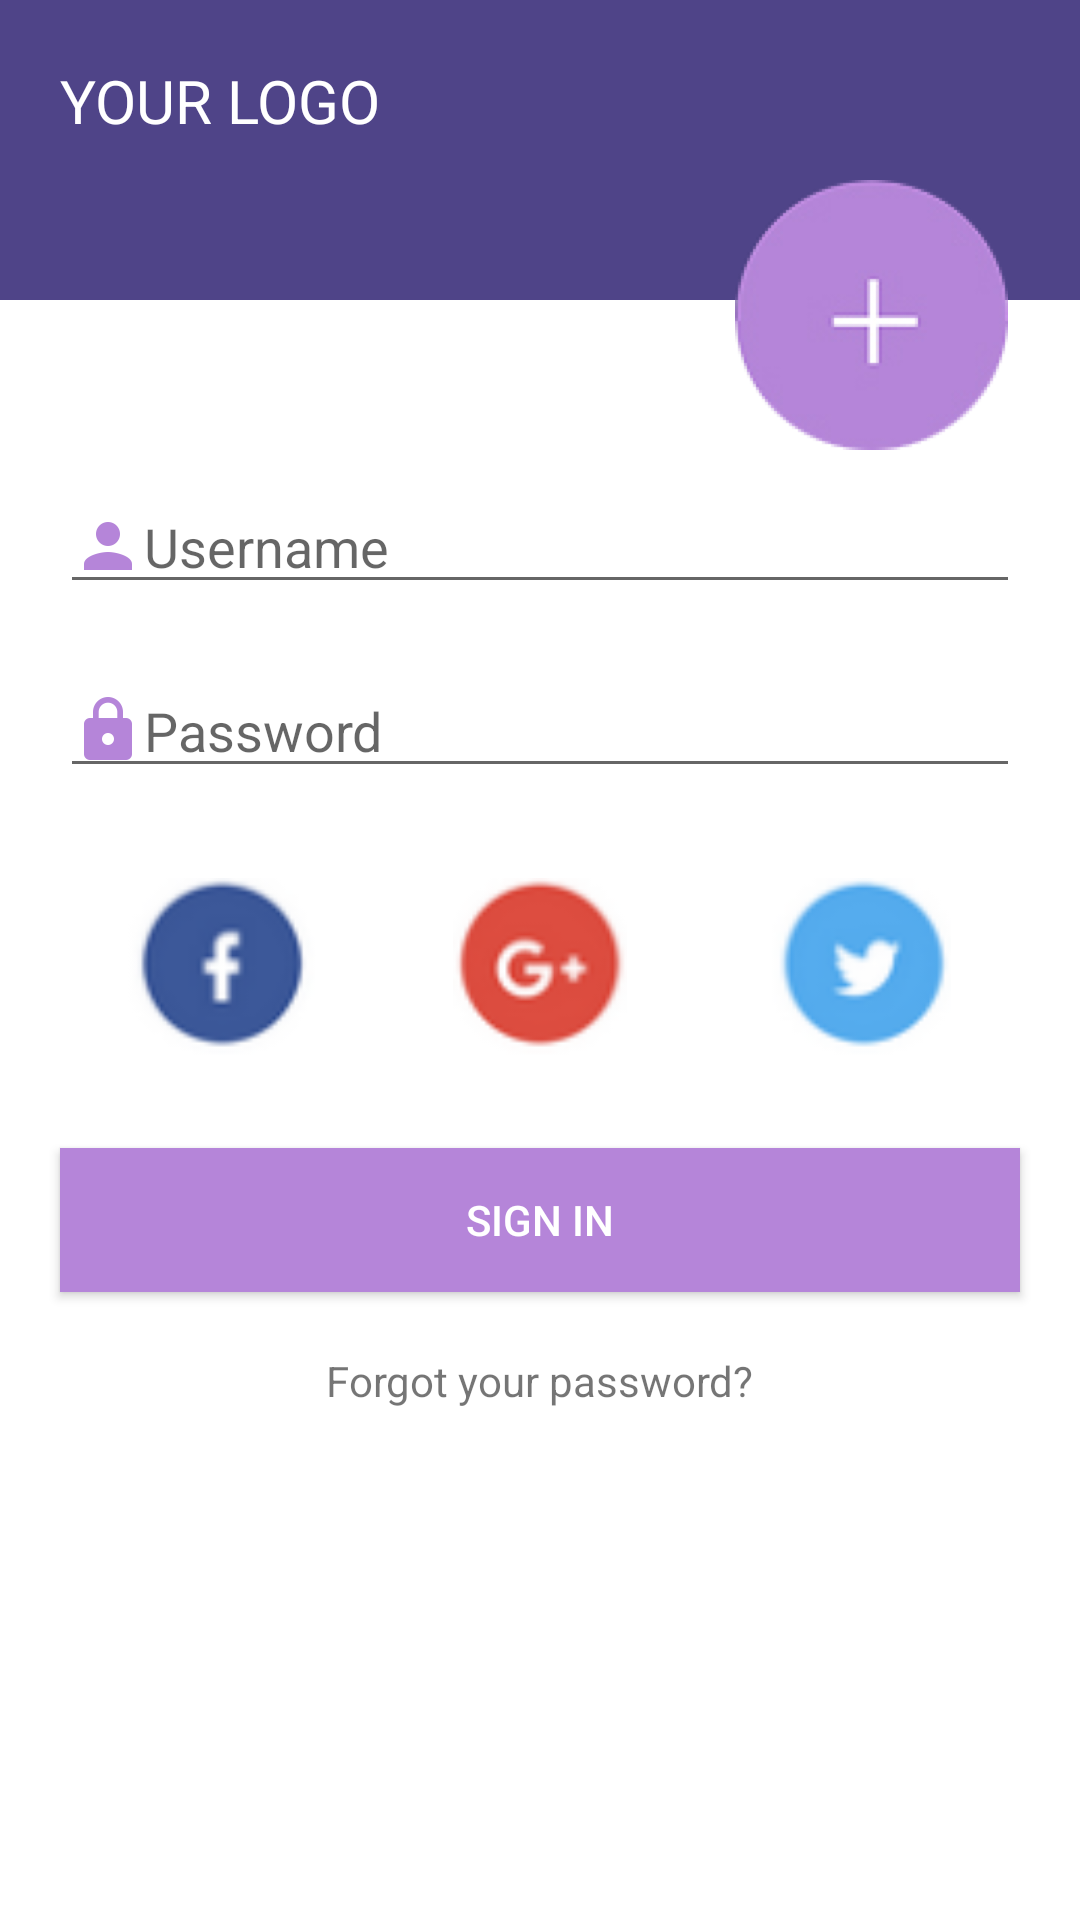

Icons on this 1080x1920 Android screen, each with the point to tap as point (x, y):
add: point (871, 315)
